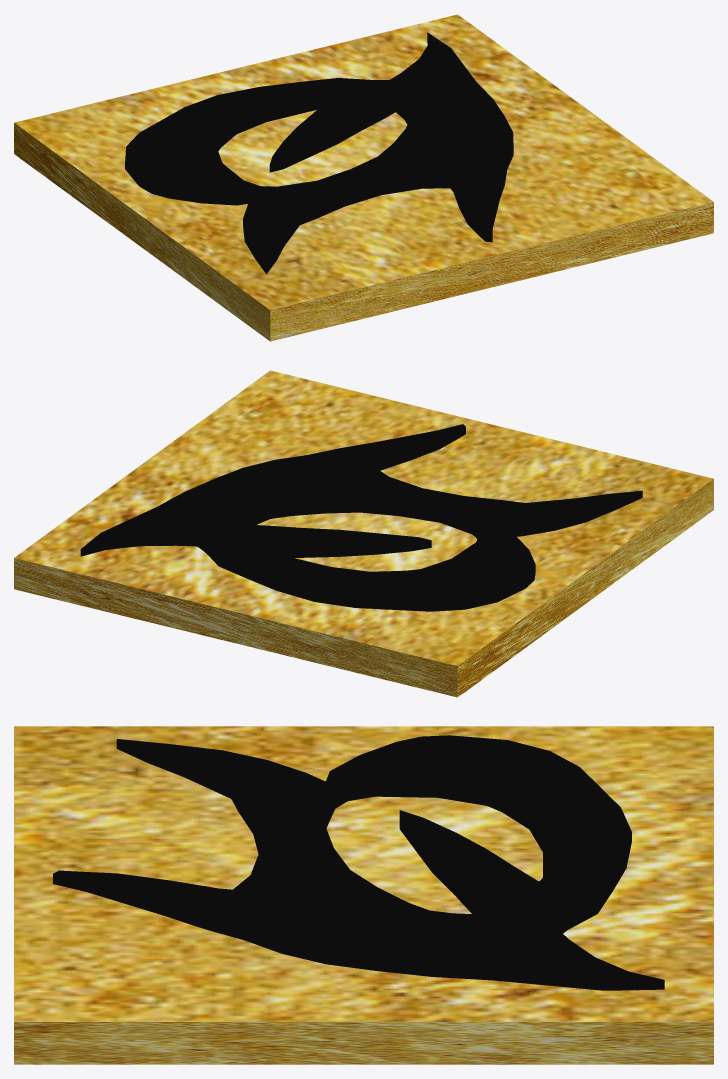
Rendered from green.fbx.
3 renders of one model, top to bottom at view 1: azimuth 30°, elevation 25°; view 2: azimuth 150°, elevation 25°; view 3: azimuth 270°, elevation 25°, orthographic. The views are drawn at different scales.
Visible parts, largest first — view 1: pCube4, Alien_Green1; view 2: pCube4, Alien_Green1; view 3: pCube4, Alien_Green1.
Boxes of the visible parts, x1,y1,x2,y2 form: pCube4: [14, 14, 713, 341]; Alien_Green1: [125, 32, 513, 274]; pCube4: [14, 370, 713, 697]; Alien_Green1: [80, 424, 642, 611]; pCube4: [14, 726, 713, 1064]; Alien_Green1: [53, 735, 664, 990].
Size of the model in its own units: 10 by 0.9441 by 10.
2 materials, 1 textured.
